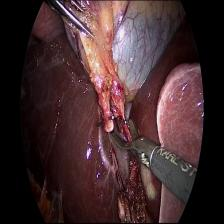Grasper: (47, 0, 100, 49)
Scissors: (108, 111, 159, 174)
